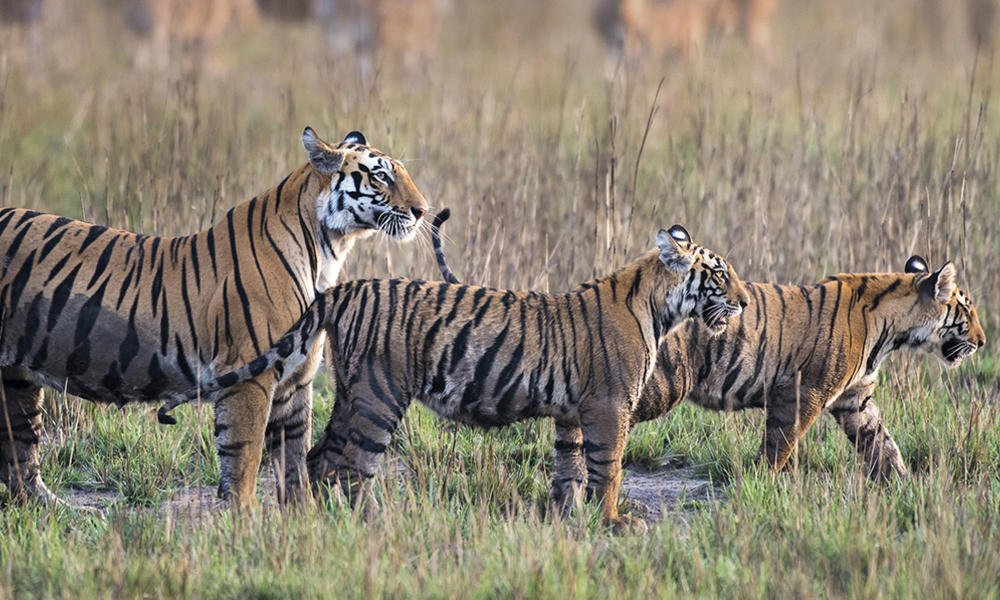Tigrew: (5, 124, 470, 509), (273, 231, 781, 541), (671, 206, 983, 432)
